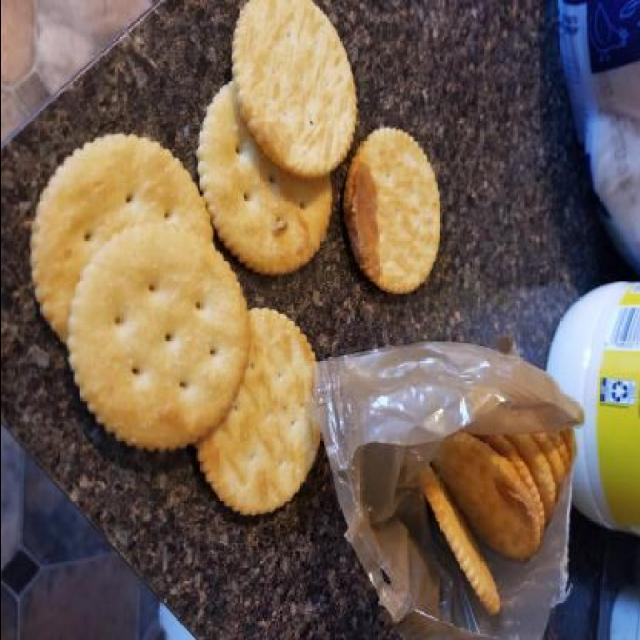Ritz cracker packaged: (20, 19, 358, 556), (426, 432, 562, 610), (342, 120, 440, 294)
